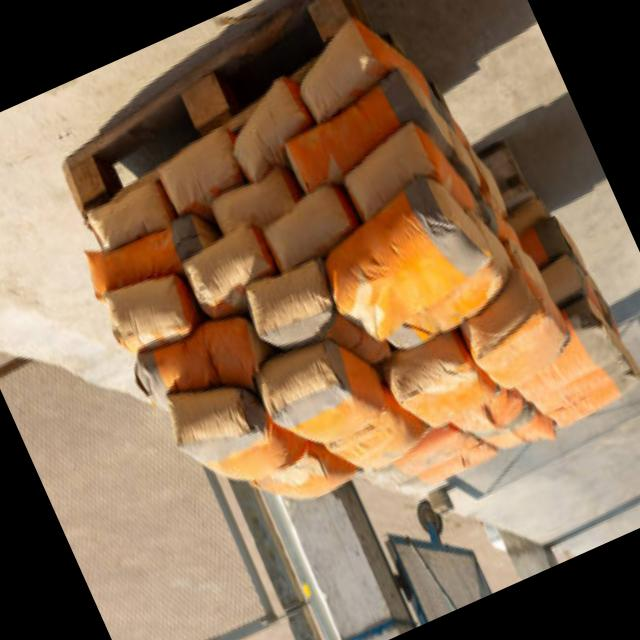KantongSemen: (33, 0, 640, 589), (350, 294, 640, 506), (310, 162, 520, 370), (248, 2, 451, 198), (160, 374, 294, 514), (178, 220, 288, 329), (99, 262, 202, 358)
